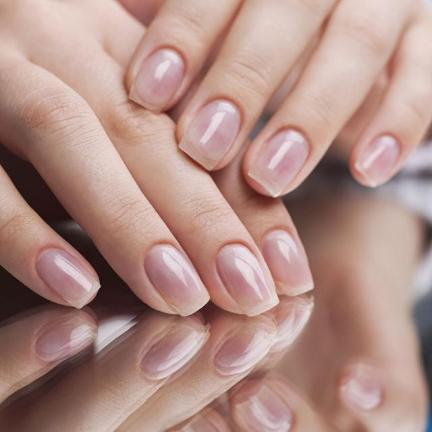Nail: (144, 243, 210, 316), (216, 243, 280, 317), (178, 99, 242, 171), (247, 129, 310, 198), (36, 246, 102, 310), (129, 48, 185, 114), (262, 229, 314, 297), (355, 136, 401, 188)
